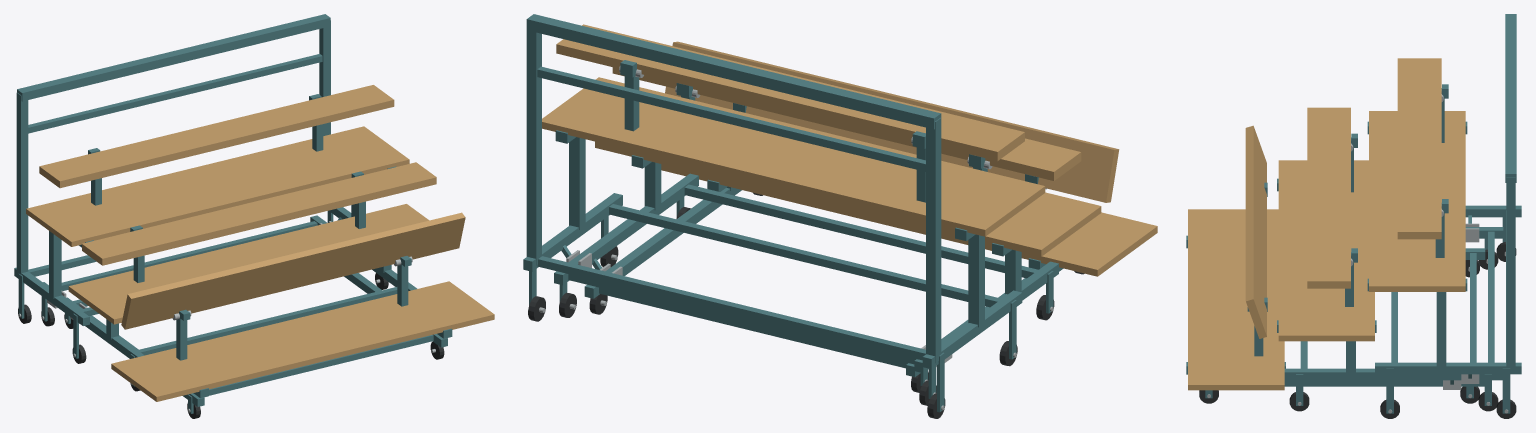
3 views of the same model, side by side, from view 1: azimuth 30°, elevation 25°; view 2: azimuth 150°, elevation 25°; view 3: azimuth 270°, elevation 25° (orthographic). The views are drawn at different scales.
Parts seen in each view (by area): view 1: WholeCompleteFootDeck_0, WholeCompleteFootDeck_2, WholeFullWidthPivotedSeat_0, WholeFullWidthPivotedSeat_2, WholeFullWidthPivotedSeat_1, WholeCompleteFootDeck_1, WholeRearGuardTop, WholeRearGuardMid, WholeRearGuardPost_-1, WholeCarriageCrossTie_(1, -0.35), WholeCarriageCrossTie_(0, -0.9500000000000001), WholeCarriageCrossTie_(1, 0.89) (+8 smaller); view 2: WholeCompleteFootDeck_2, WholeFullWidthPivotedSeat_2, WholeFullWidthPivotedSeat_0, WholeRearGuardTop, WholeCompleteFootDeck_1, WholeCompleteFootDeck_0, WholeCarriageCrossTie_(2, 1.0099999999999998), WholeRearGuardMid, WholeCarriageCrossTie_(2, 0.25), WholeFullWidthPivotedSeat_1, WholeRearGuardPost_-1, WholeCarriageCrossTie_(1, -0.35) (+13 smaller); view 3: WholeCompleteFootDeck_0, WholeCompleteFootDeck_2, WholeCompleteFootDeck_1, WholeFullWidthPivotedSeat_2, WholeFullWidthPivotedSeat_1, WholeFullWidthPivotedSeat_0, WholeRearGuardTop, WholeRearGuardPost_1, WholeNestedBaseRail_(1, 1), WholeNestedBaseRail_(2, 1), WholeNestedBaseRail_(0, 1), WholeCarriageCrossTie_(1, 0.89) (+7 smaller).
Boxes of the visible parts, <box> form: WholeCompleteFootDeck_0: <box>111,281,494,401</box>; WholeCompleteFootDeck_2: <box>26,126,409,246</box>; WholeFullWidthPivotedSeat_0: <box>121,212,465,329</box>; WholeFullWidthPivotedSeat_2: <box>39,85,394,188</box>; WholeFullWidthPivotedSeat_1: <box>82,162,436,265</box>; WholeCompleteFootDeck_1: <box>68,204,429,324</box>; WholeRearGuardTop: <box>17,14,330,101</box>; WholeRearGuardMid: <box>28,54,322,133</box>; WholeRearGuardPost_-1: <box>16,92,28,276</box>; WholeCarriageCrossTie_(1, -0.35): <box>137,287,397,355</box>; WholeCarriageCrossTie_(0, -0.9500000000000001): <box>209,335,433,395</box>; WholeCarriageCrossTie_(1, 0.89): <box>61,221,317,290</box>; WholeCompleteFootDeck_2: <box>542,77,1045,236</box>; WholeFullWidthPivotedSeat_2: <box>556,24,1024,160</box>; WholeFullWidthPivotedSeat_0: <box>665,41,1119,202</box>; WholeRearGuardTop: <box>526,14,941,129</box>; WholeCompleteFootDeck_1: <box>595,141,1101,256</box>; WholeCompleteFootDeck_0: <box>661,164,1157,276</box>; WholeCarriageCrossTie_(2, 1.0099999999999998): <box>537,256,925,360</box>; WholeRearGuardMid: <box>537,66,925,171</box>; WholeCarriageCrossTie_(2, 0.25): <box>609,204,1001,307</box>; WholeFullWidthPivotedSeat_1: <box>612,67,1081,180</box>; WholeRearGuardPost_-1: <box>926,117,941,362</box>; WholeCarriageCrossTie_(1, -0.35): <box>684,184,1038,278</box>; WholeCompleteFootDeck_0: <box>1188,209,1284,390</box>; WholeCompleteFootDeck_2: <box>1369,111,1465,291</box>; WholeCompleteFootDeck_1: <box>1278,160,1374,341</box>; WholeFullWidthPivotedSeat_2: <box>1397,58,1441,239</box>; WholeFullWidthPivotedSeat_1: <box>1307,107,1350,288</box>; WholeFullWidthPivotedSeat_0: <box>1245,125,1266,338</box>; WholeRearGuardTop: <box>1505,14,1516,182</box>; WholeRearGuardPost_1: <box>1506,177,1515,371</box>; WholeNestedBaseRail_(1, 1): <box>1284,368,1502,380</box>; WholeNestedBaseRail_(2, 1): <box>1375,362,1521,374</box>; WholeNestedBaseRail_(0, 1): <box>1284,380,1484,386</box>; WholeCarriageCrossTie_(1, 0.89): <box>1488,231,1494,362</box>.
Size of the model in its own units: 2.75 by 1.79 by 2.22.
